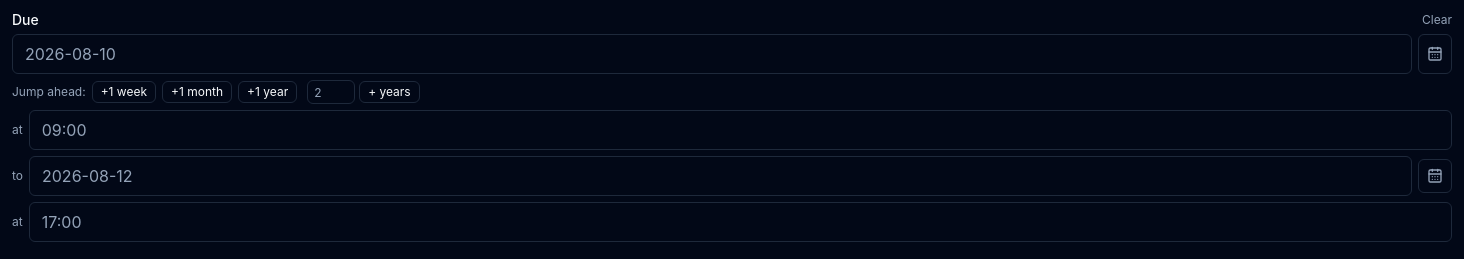
Scenario: DueFieldset › clears everything at once
This screenshot has width=1464, height=259.
Step 1. Click the button "Clear" → click(1437, 20), box [1422,12,1452,28]
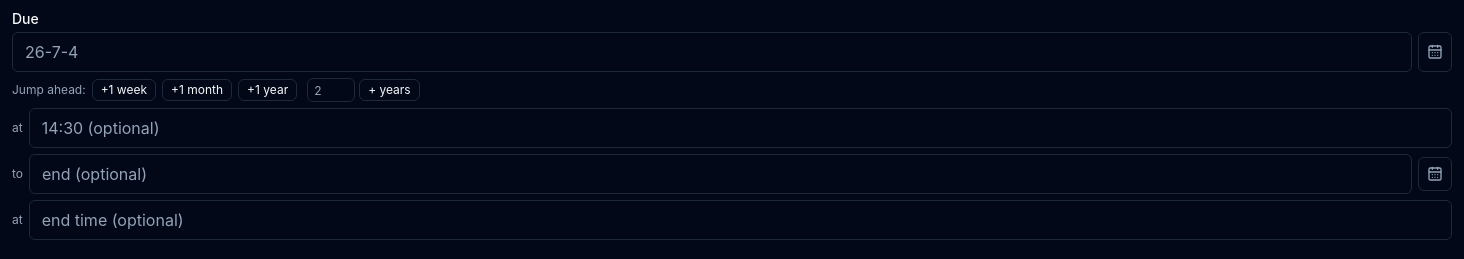
Now the field labelled "Due" is empty, box [12,32,1412,72]
